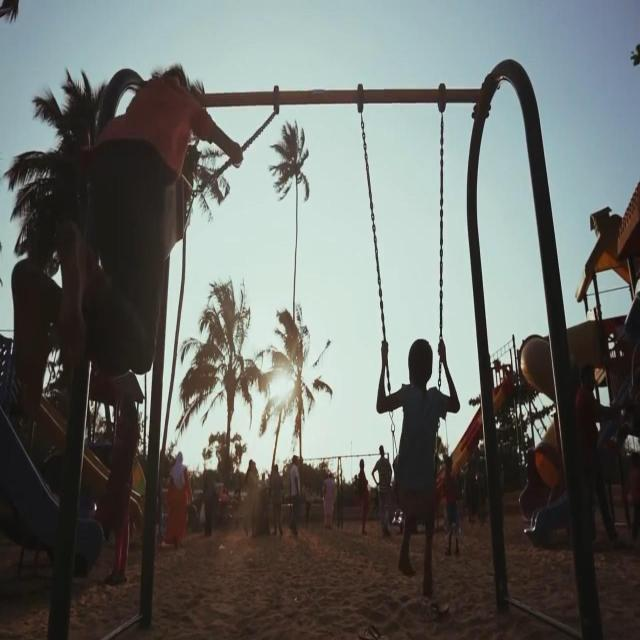no-helmet: (402, 335, 433, 388), (162, 59, 186, 91), (118, 389, 134, 415), (443, 454, 453, 476), (379, 443, 387, 463), (358, 455, 366, 473), (174, 446, 182, 462), (248, 458, 256, 474), (271, 460, 279, 476), (290, 452, 298, 466)
